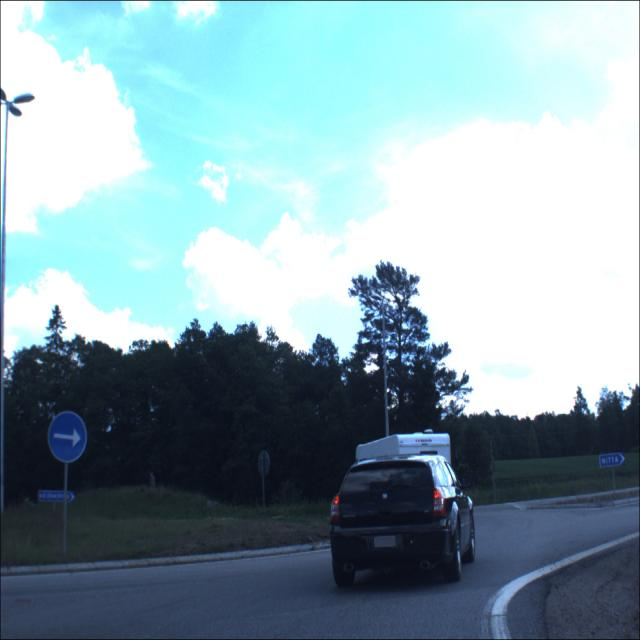Turn Right: (43, 413, 88, 461)
